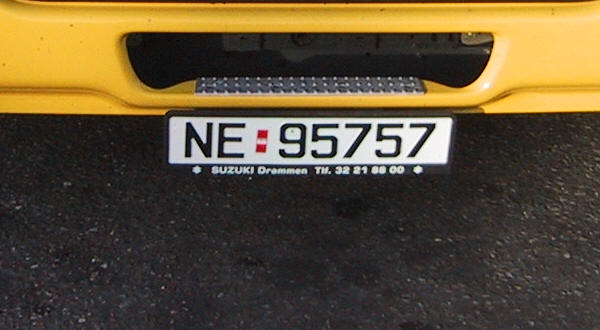license_plate: (166, 110, 455, 170)
